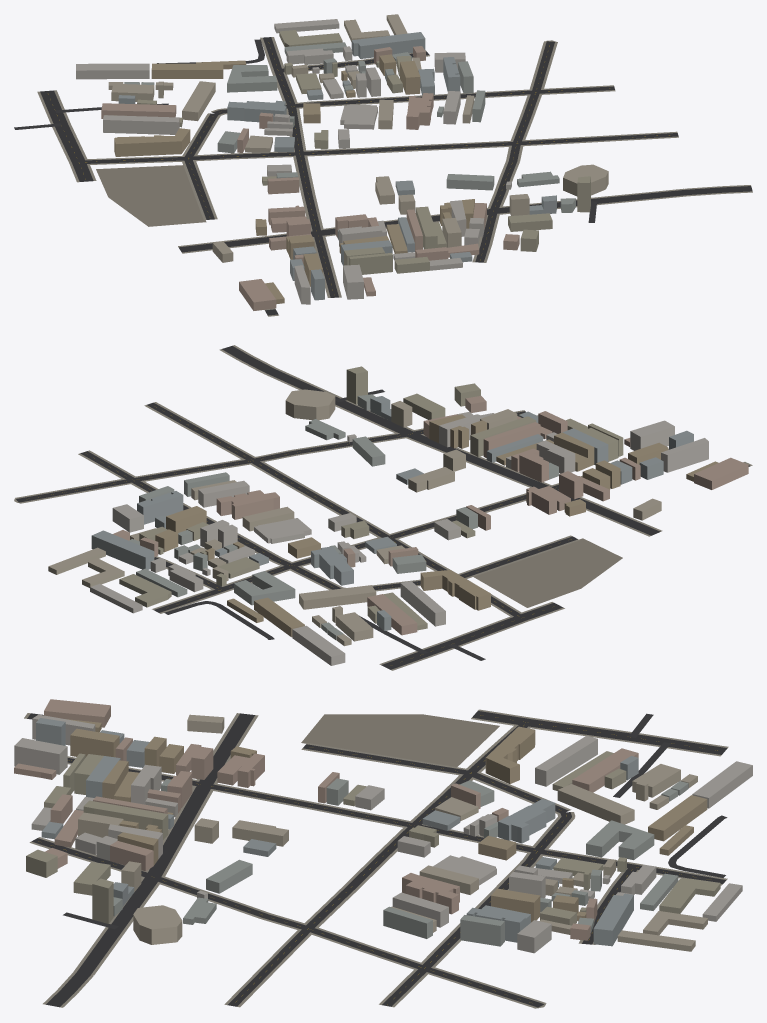
The picture shows the model from 3 angles, top to bottom: view 1: azimuth 30°, elevation 25°; view 2: azimuth 150°, elevation 25°; view 3: azimuth 270°, elevation 25°; orthographic projection. The views are drawn at different scales.
Visible parts, largest first — view 1: tile_2_0; view 2: tile_2_0; view 3: tile_2_0.
Part boxes in pixels (x1=…): tile_2_0: x1=14, y1=14, x2=752, y2=316; tile_2_0: x1=14, y1=345, x2=752, y2=670; tile_2_0: x1=14, y1=699, x2=752, y2=1008.
Size of the model in its own units: 410 by 22.8 by 428.
